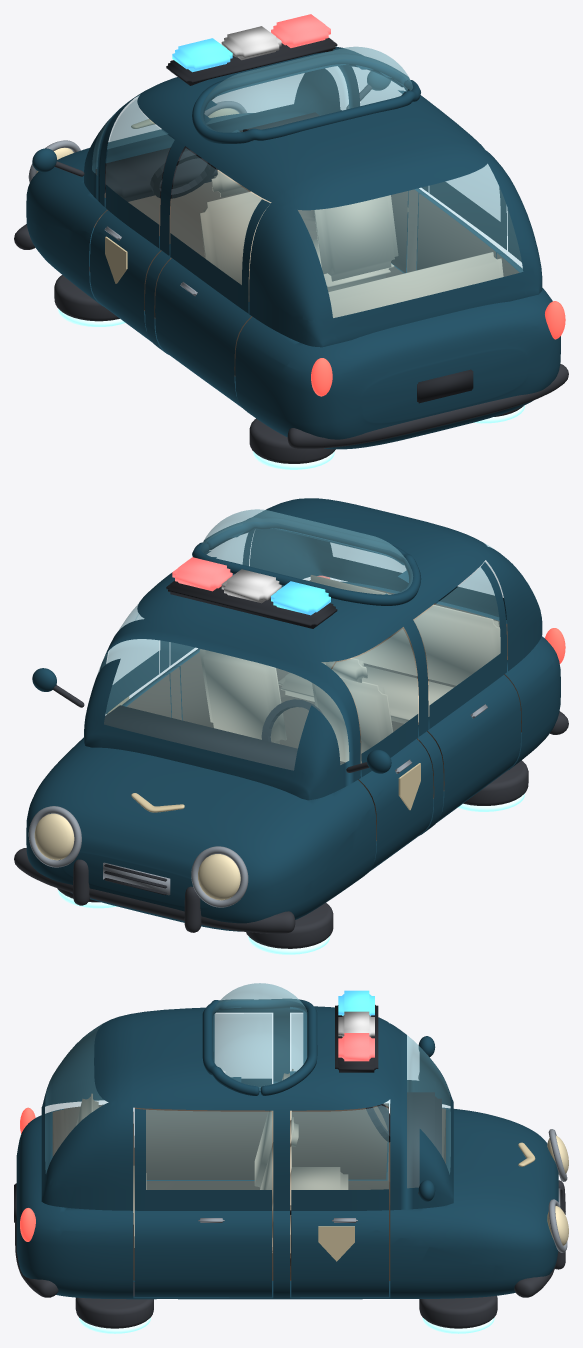
File: Viatura.fbx
3 renders of one model, top to bottom at view 1: azimuth 30°, elevation 25°; view 2: azimuth 150°, elevation 25°; view 3: azimuth 270°, elevation 25°, orthographic. The views are drawn at different scales.
Parts seen in each view (by area): view 1: Carroceria, Porta_ET, Porta_EF, Porta_DT, Parachoque_Tras, Disco_ET, Porta_DF, Giroflex, Disco_EF, Giroflex_0, Giroflex_1, Giroflex_2 (+1 smaller); view 2: Carroceria, Porta_ET, Porta_EF, Porta_DF, Porta_DT, Parachoque_Frente, Giroflex, Disco_EF, Disco_ET, Giroflex_0, Giroflex_2, Giroflex_1 (+2 smaller); view 3: Carroceria, Porta_DT, Porta_DF, Porta_ET, Porta_EF, Disco_DF, Disco_DT, Giroflex, Giroflex_2, Giroflex_0, Giroflex_1, Parachoque_Tras (+1 smaller).
Part boxes in pixels (box(x1,y1,x2,y2)): Carroceria: box(26, 46, 565, 449); Porta_ET: box(155, 148, 270, 406); Porta_EF: box(90, 99, 174, 340); Porta_DT: box(417, 164, 508, 269); Parachoque_Tras: box(287, 364, 568, 448); Disco_ET: box(249, 418, 335, 469); Porta_DF: box(352, 67, 424, 273); Giroflex: box(166, 38, 337, 85); Disco_EF: box(54, 266, 125, 326); Giroflex_0: box(172, 38, 232, 72); Giroflex_1: box(221, 26, 281, 60); Giroflex_2: box(271, 14, 330, 47); Carroceria: box(26, 498, 565, 932); Porta_ET: box(414, 562, 521, 821); Porta_EF: box(332, 629, 433, 870); Porta_DF: box(105, 604, 171, 717); Porta_DT: box(166, 529, 254, 727); Parachoque_Frente: box(14, 848, 295, 933); Giroflex: box(166, 580, 337, 628); Disco_EF: box(246, 903, 333, 954); Disco_ET: box(457, 760, 528, 811); Giroflex_0: box(271, 581, 330, 615); Giroflex_2: box(172, 557, 232, 591); Giroflex_1: box(221, 569, 281, 603); Carroceria: box(14, 983, 568, 1299); Porta_DT: box(134, 1109, 271, 1297); Porta_DF: box(290, 1105, 388, 1297); Porta_ET: box(134, 1014, 271, 1180); Porta_EF: box(291, 1014, 388, 1180); Disco_DF: box(419, 1296, 497, 1333); Disco_DT: box(75, 1281, 153, 1333); Giroflex: box(335, 1005, 378, 1072); Giroflex_2: box(338, 1033, 374, 1061); Giroflex_0: box(338, 990, 374, 1015); Giroflex_1: box(338, 1011, 374, 1036); Parachoque_Tras: box(15, 1223, 58, 1297).
Size of the model in its own units: 2.18 by 1.77 by 3.33.
